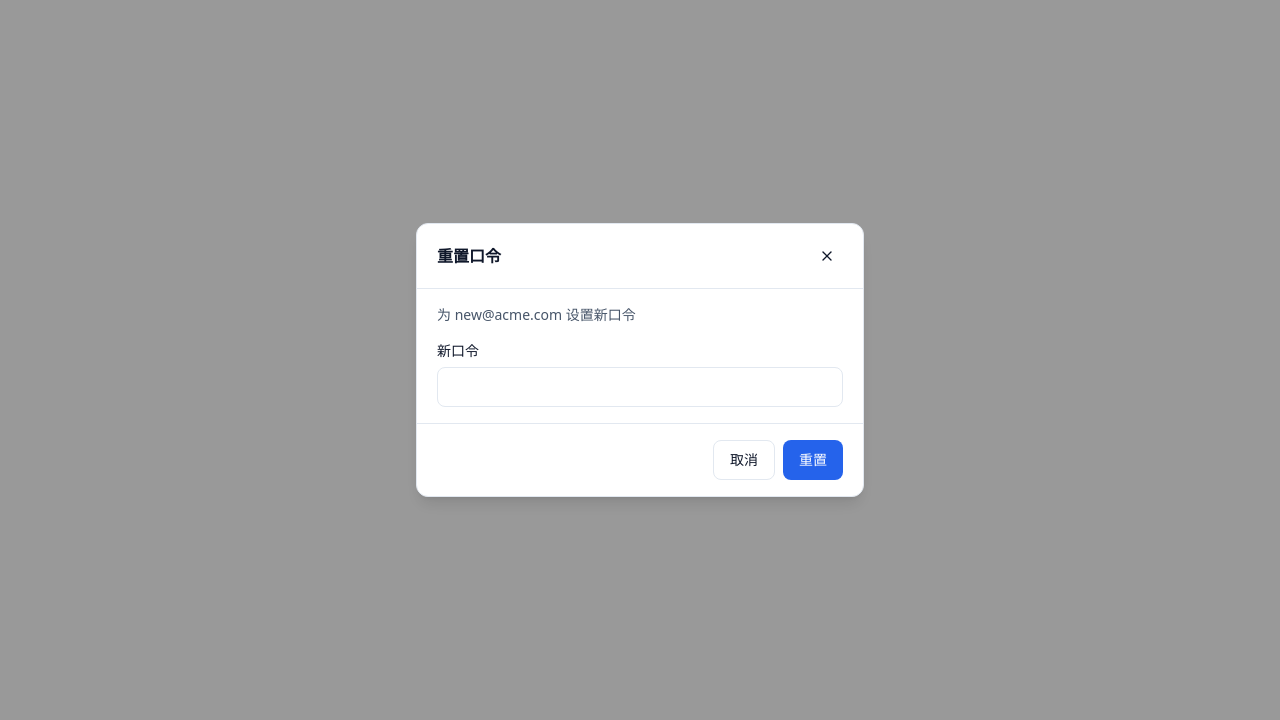
it: ResetPasswordDialog › echoes a rejected new password at the field: 口令须为 8–128 个字符
Type "1234567" into the password field labelled "新口令" at (640,387), box x1=437 y1=367 x2=843 y2=407
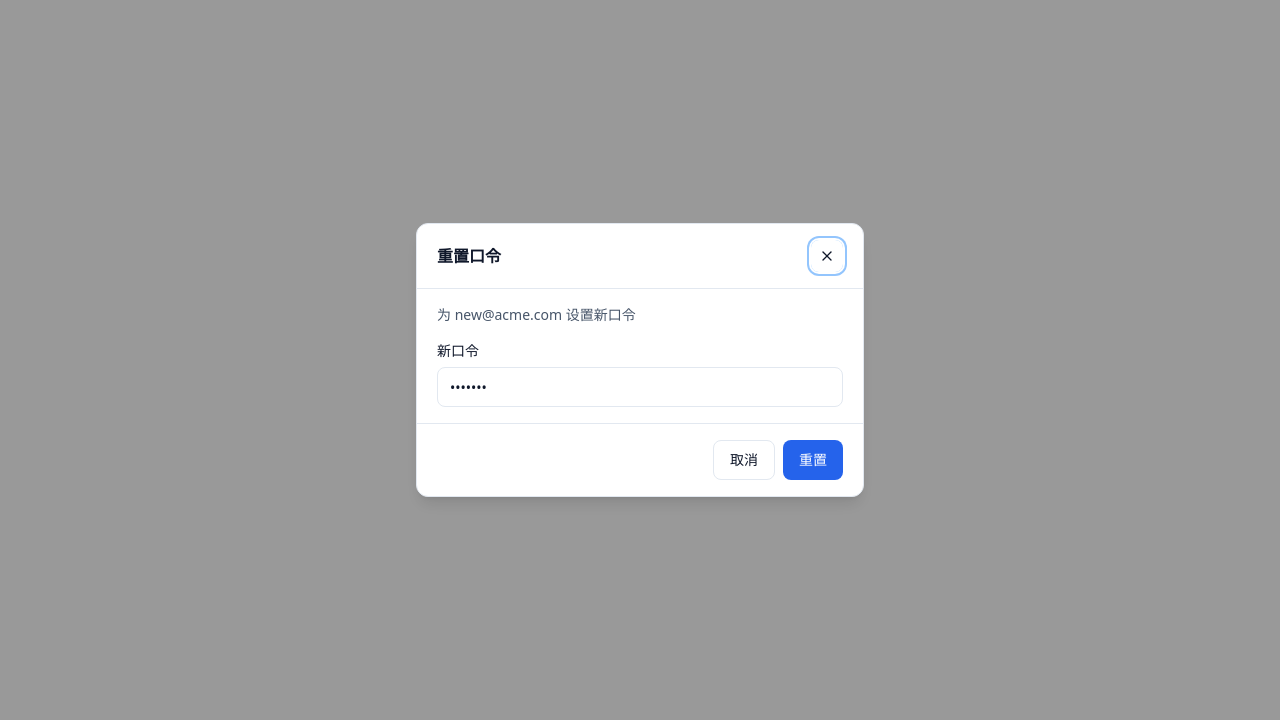
Click the button "重置" at (813,460), box x1=783 y1=440 x2=843 y2=480
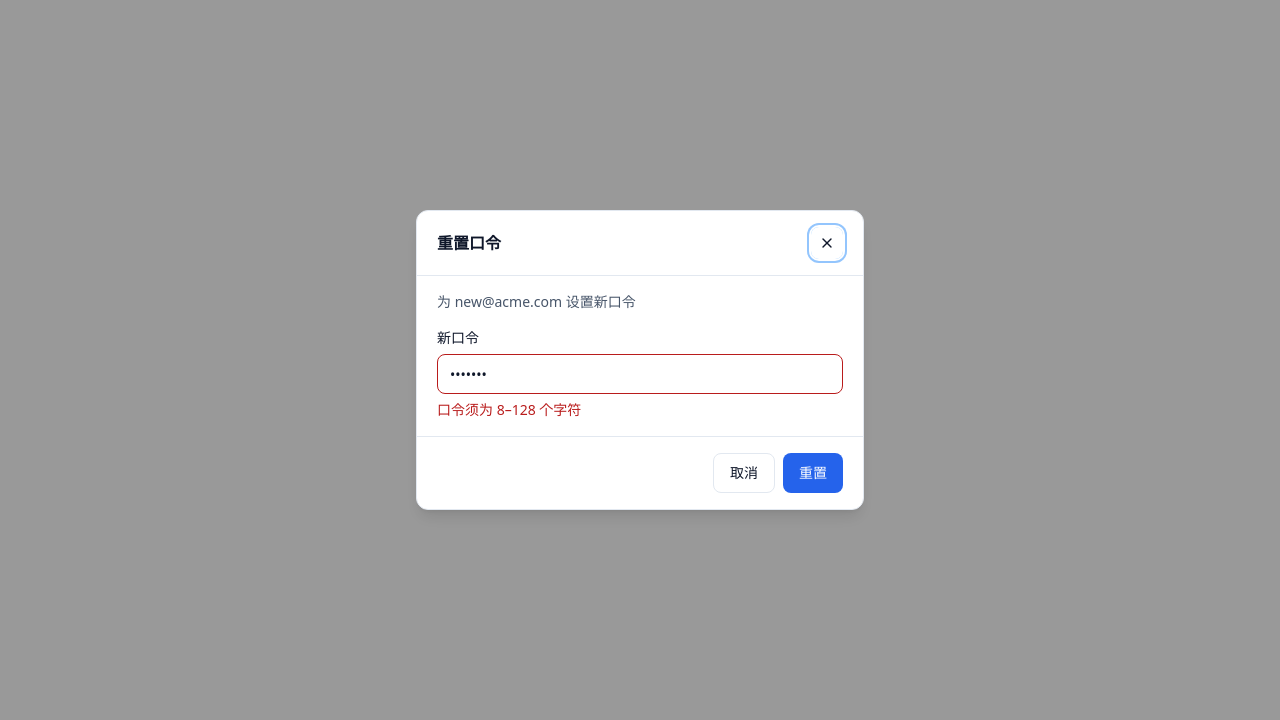
Expected: the text "口令须为 8–128 个字符" is shown, x1=437 y1=400 x2=581 y2=419
